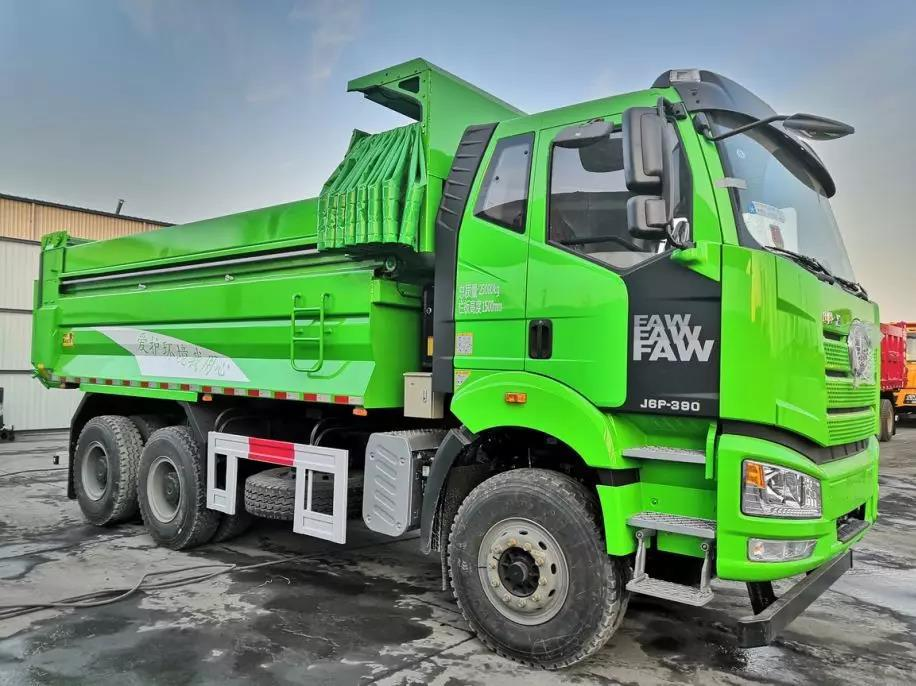truck: (26, 39, 899, 668)
